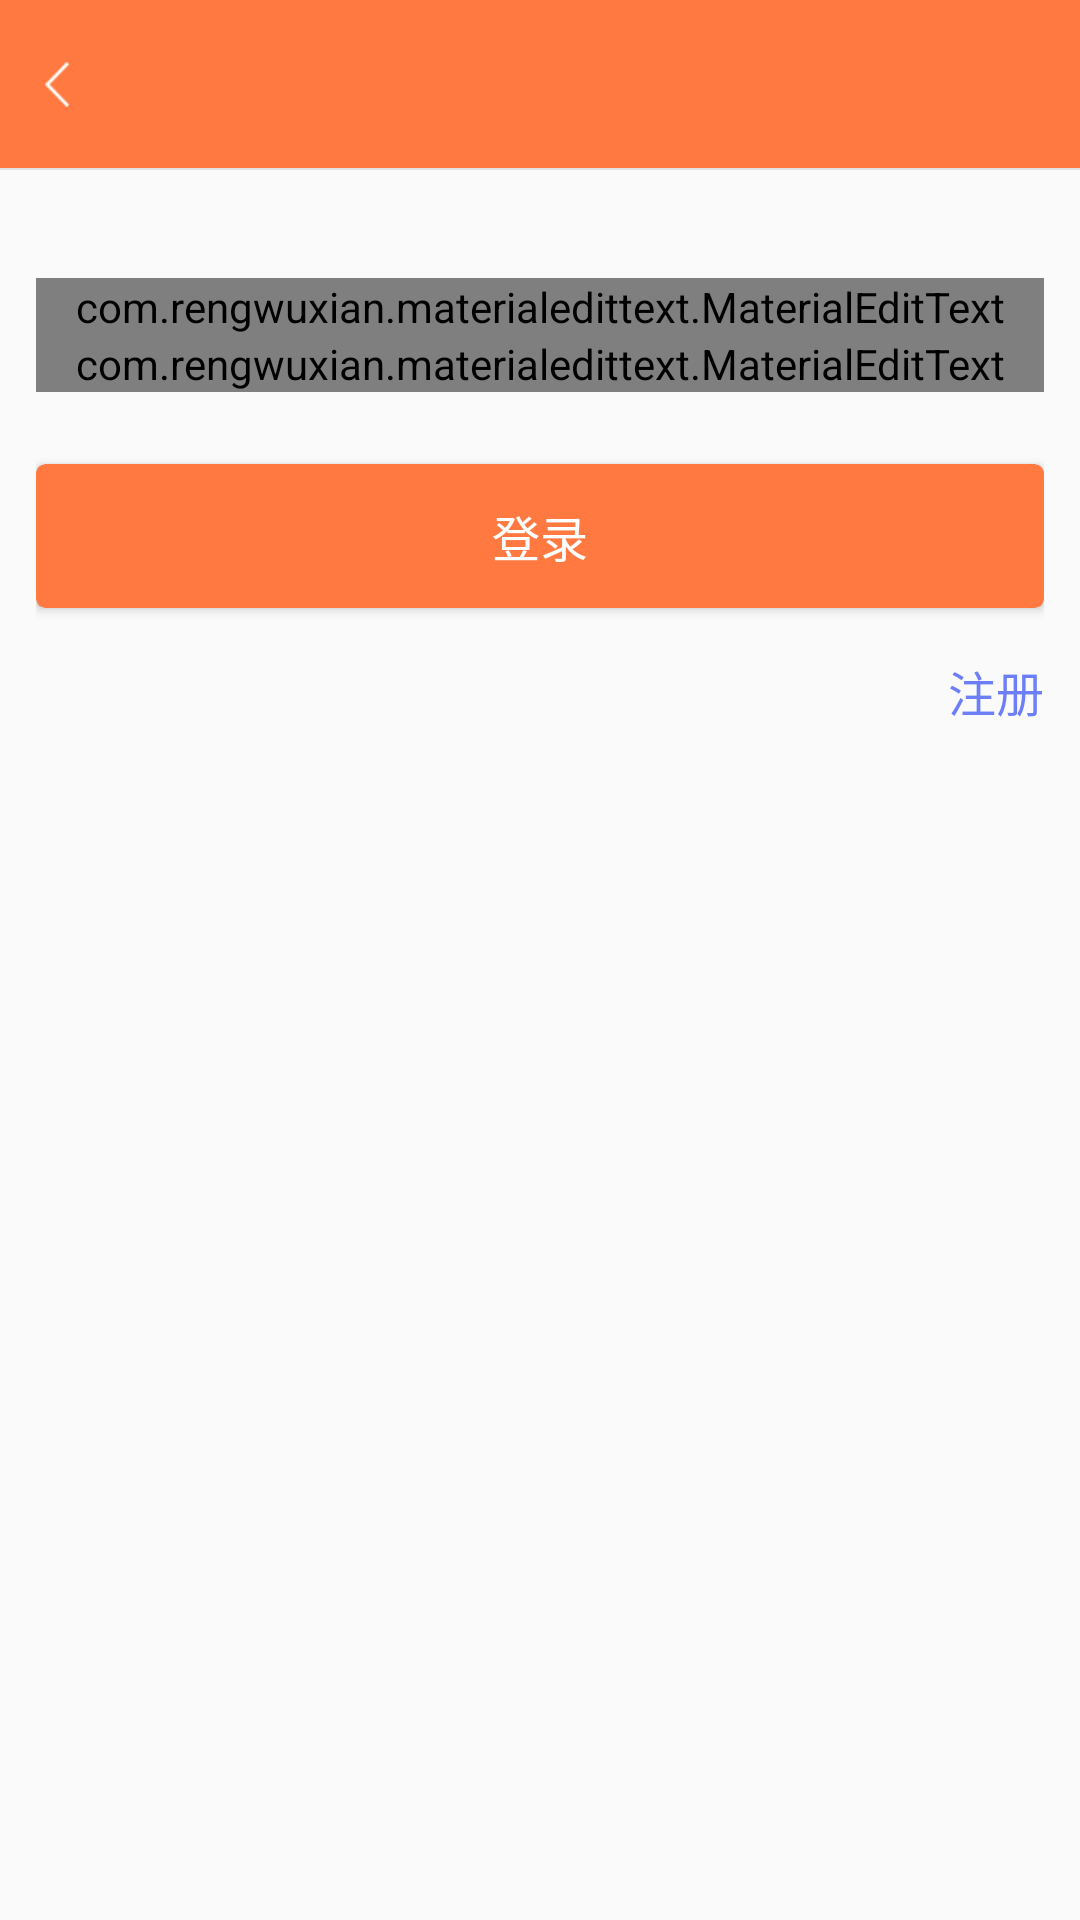

Screen size 1080 x 1920. Icon name, then its box in pixels as [left=x1, top=y1, right=x2, bottom=y2]:
arrow back: [left=45, top=62, right=69, bottom=107]
